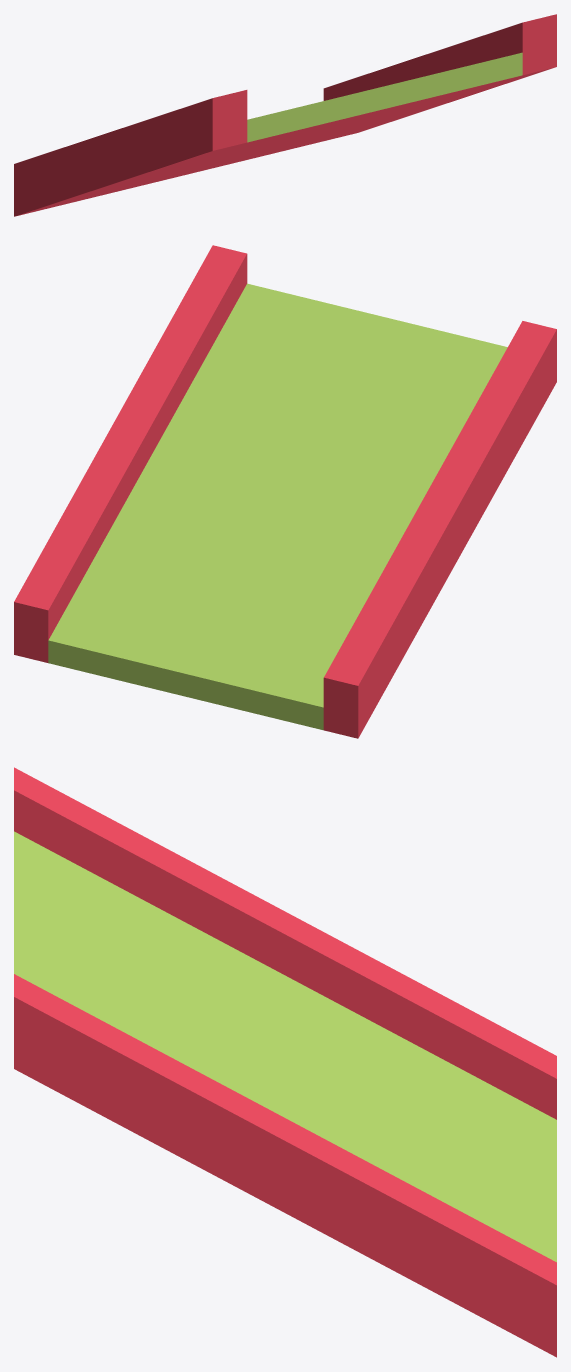
Rendered from rampD.fbx.
The picture shows the model from 3 angles, top to bottom: view 1: azimuth 30°, elevation 25°; view 2: azimuth 150°, elevation 25°; view 3: azimuth 270°, elevation 25°; orthographic projection. The views are drawn at different scales.
Parts seen in each view (by area): view 1: rampD; view 2: rampD; view 3: rampD.
Boxes of the visible parts, x1,y1,x2,y2 form: rampD: [14, 14, 556, 216]; rampD: [14, 245, 556, 738]; rampD: [14, 767, 556, 1357].
Bounding box in the file's own units: 10 × 7.33 × 10.
